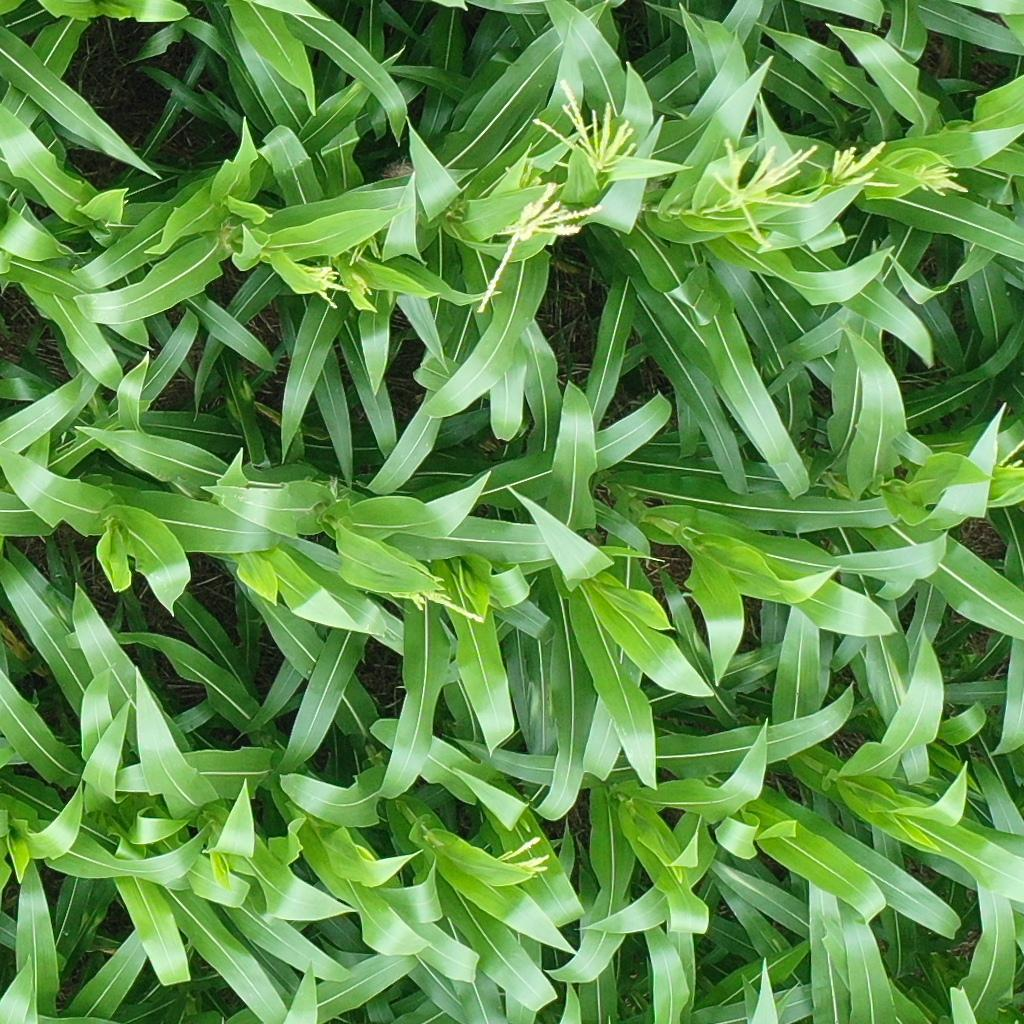Tassel: (472, 182, 602, 315), (702, 133, 821, 237), (529, 74, 643, 177), (393, 563, 486, 629), (834, 139, 899, 191), (496, 831, 553, 879), (909, 159, 970, 199), (299, 262, 353, 307), (345, 230, 386, 268), (994, 433, 1022, 479)
